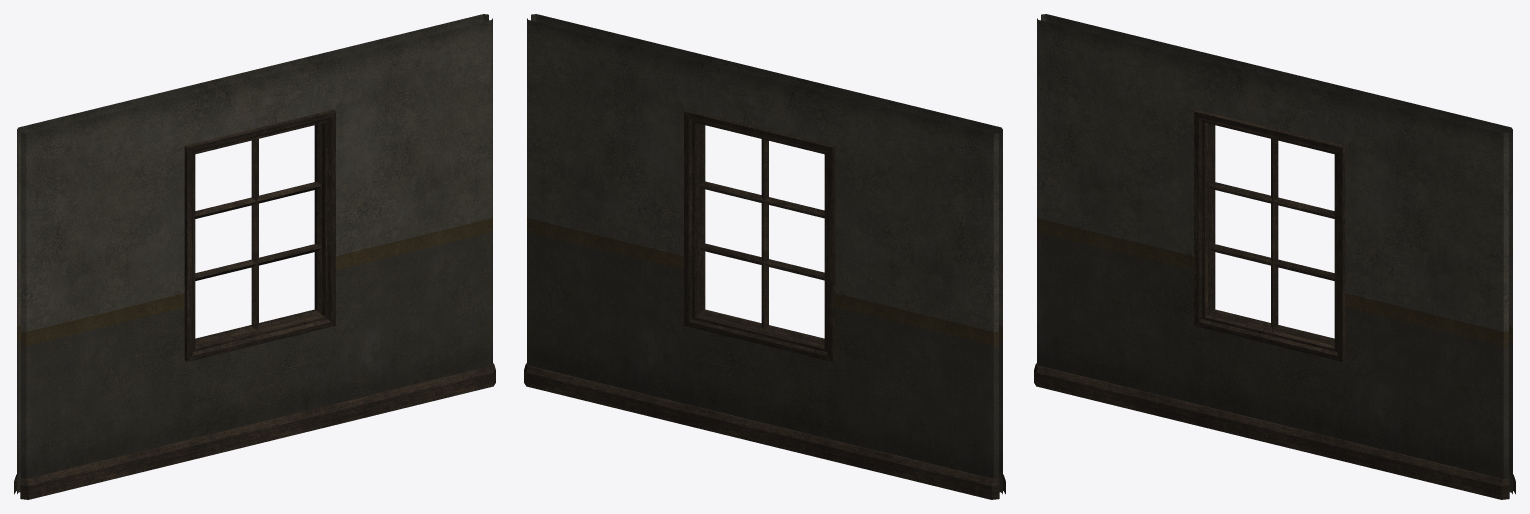
Rendered from window_2_single_no_glass.obj.
3 renders of one model, left to right at view 1: azimuth 30°, elevation 25°; view 2: azimuth 150°, elevation 25°; view 3: azimuth 330°, elevation 25°, orthographic.
Visible parts, largest first — view 1: window_2_single_no_glass; view 2: window_2_single_no_glass; view 3: window_2_single_no_glass.
Boxes of the visible parts, x1,y1,x2,y2 form: window_2_single_no_glass: (14, 14, 495, 499); window_2_single_no_glass: (524, 14, 1005, 499); window_2_single_no_glass: (1034, 14, 1515, 499).
Size of the model in its own units: 4.09 by 3 by 0.2.
